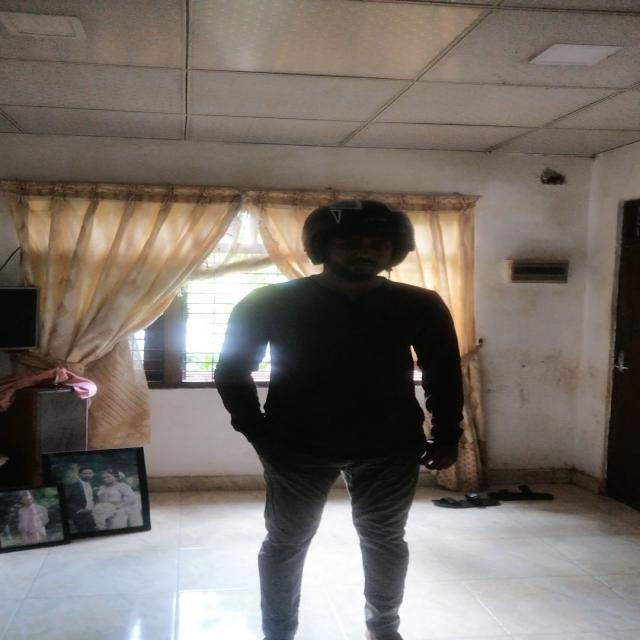Helmet_Wearer: (273, 198, 431, 287)
Person: (230, 196, 462, 620)
